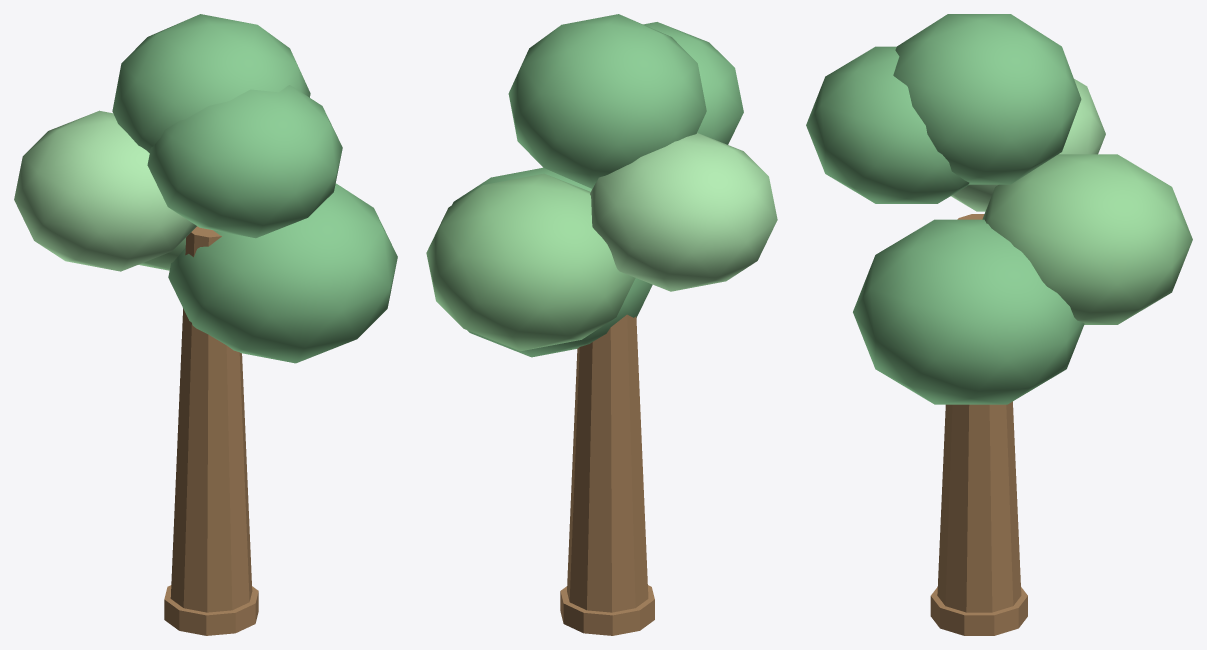
Rendered from tree_a.glb.
The picture shows the model from 3 angles, left to right: view 1: azimuth 30°, elevation 25°; view 2: azimuth 150°, elevation 25°; view 3: azimuth 270°, elevation 25°; orthographic projection.
Visible parts, largest first — view 1: tree_a; view 2: tree_a; view 3: tree_a.
Part boxes in pixels (<box>): tree_a: <box>14,14,397,635</box>; tree_a: <box>426,14,777,635</box>; tree_a: <box>806,14,1192,635</box>.
Bounding box in the file's own units: 2.71 × 4.6 × 2.71.
